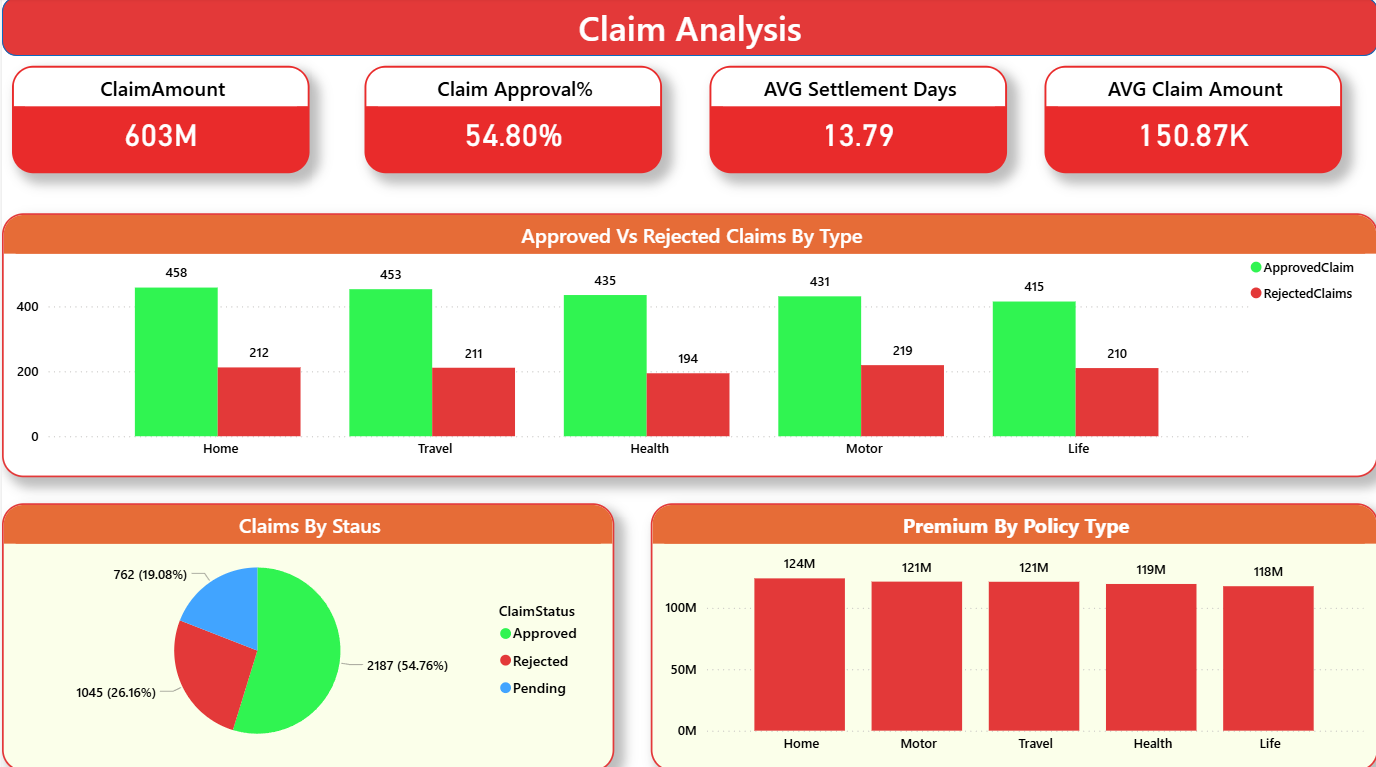

What the dashboard file says about the page in this screenshot:
{"tool":"powerbi","page":{"name":"Claim Analysis ","canvas":[1280,720],"ordinal":1},"visuals":[{"type":"card","title":"ClaimAmount","fields":{"Values":["Fact_Claims.TotalClaimAmount"]},"box":[9.6,64.5,277.2,100.2],"z":0},{"type":"pieChart","title":"Claims By Staus","fields":{"Y":["Count(Fact_Claims.ClaimAmount)"],"Category":["Fact_Claims.ClaimStatus"]},"box":[0,470.7,569.5,249.7],"z":1000},{"type":"clusteredColumnChart","title":"Approved Vs  Rejected Claims By Type ","fields":{"Category":["Dim_Policy.PolicyType"],"Y":["Fact_Claims.ApprovedClaim","Fact_Claims.RejectedClaims"]},"box":[0,201.7,1280.3,245.6],"z":2000},{"type":"clusteredColumnChart","title":"Premium By Policy Type","fields":{"Category":["Dim_Policy.PolicyType"],"Y":["Sum(Fact_Claims.ClaimAmount)"]},"box":[603.8,470.7,676.5,249.7],"z":3000},{"type":"card","title":"Claim Approval%","fields":{"Values":["Fact_Claims.ClaimApprovalRate"]},"box":[337.6,64.5,277.2,100.2],"z":4000},{"type":"card","title":"AVG Settlement Days ","fields":{"Values":["Avg(Fact_Claims.SettlementDays)"]},"box":[658.7,64.5,277.2,100.2],"z":5000},{"type":"card","title":"AVG Claim Amount ","fields":{"Values":["Avg(Fact_Claims.ClaimAmount)"]},"box":[970.2,64.5,277.2,100.2],"z":6000},{"type":"shape","box":[0,0,1280.3,54.9],"z":7000}]}

Visuals, with their boxes in screenshot pixels (x1, y1, x2, y2), scaled from the page's 1280x720 canvas onto the 1376x767 screenshot:
"ClaimAmount" card: [10, 69, 308, 175]
"Claims By Staus" pieChart: [0, 501, 612, 766]
"Approved Vs  Rejected Claims By Type " clusteredColumnChart: [0, 215, 1375, 476]
"Premium By Policy Type" clusteredColumnChart: [649, 501, 1375, 766]
"Claim Approval%" card: [363, 69, 661, 175]
"AVG Settlement Days " card: [708, 69, 1006, 175]
"AVG Claim Amount " card: [1043, 69, 1341, 175]
shape: [0, 0, 1375, 58]
